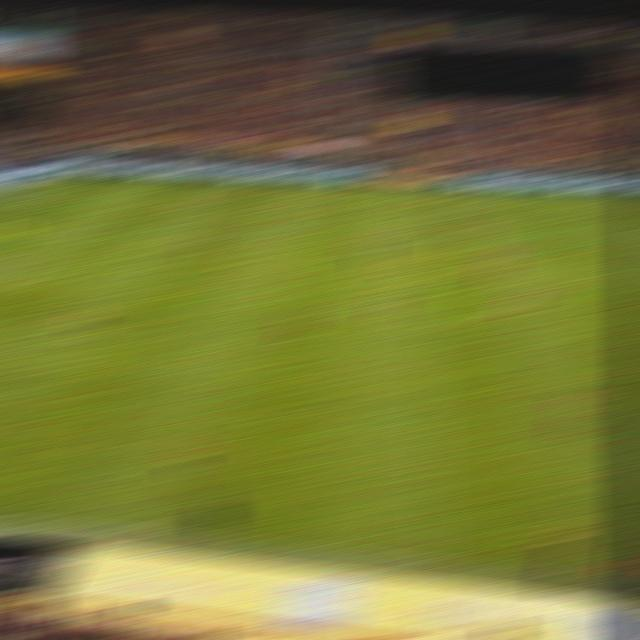bigarea_top_inner: (109, 203, 140, 211)
bigarea_top_outter: (0, 197, 18, 205)
bottom_arc_area_intersection: (0, 280, 25, 292)
corner: (40, 173, 71, 181)
halfcircle_bottom: (404, 315, 435, 325)
halfcircle_top: (400, 241, 430, 250)
midline_bottom_intersection: (418, 554, 452, 567)
midline_top_intersection: (397, 187, 427, 196)
top_arc_area_intersection: (67, 233, 97, 242)
